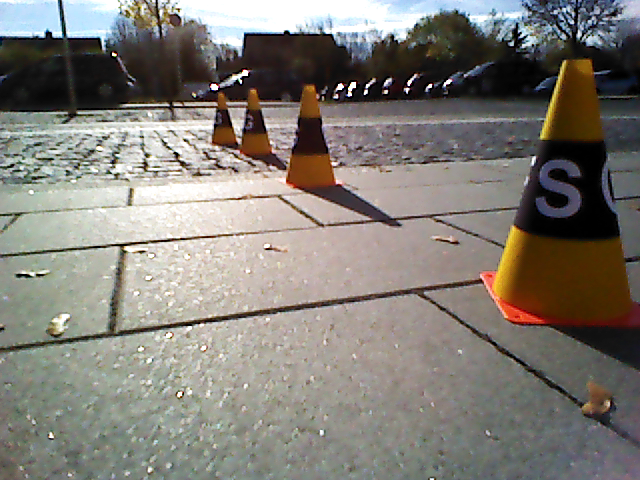yellowcone: (496, 58, 633, 309), (290, 83, 334, 184), (242, 89, 271, 154), (212, 94, 237, 145)
